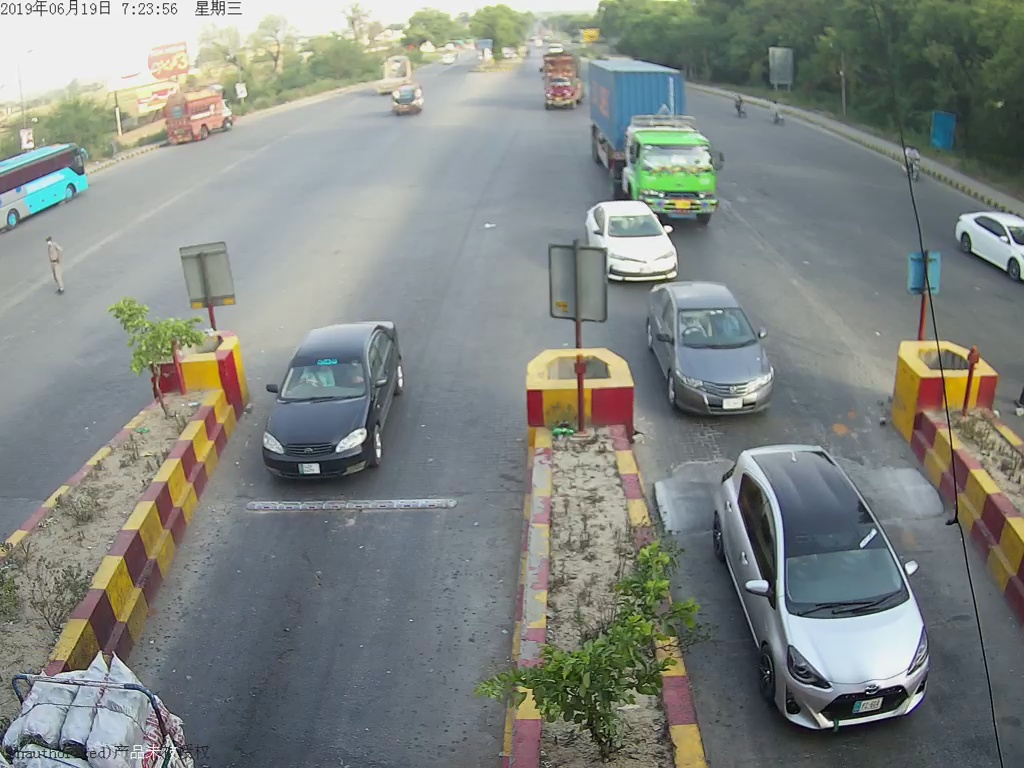Cat-1: (709, 434, 941, 743), (255, 312, 415, 490), (636, 278, 795, 424), (576, 193, 688, 290)
Cat-5: (577, 57, 727, 181)
